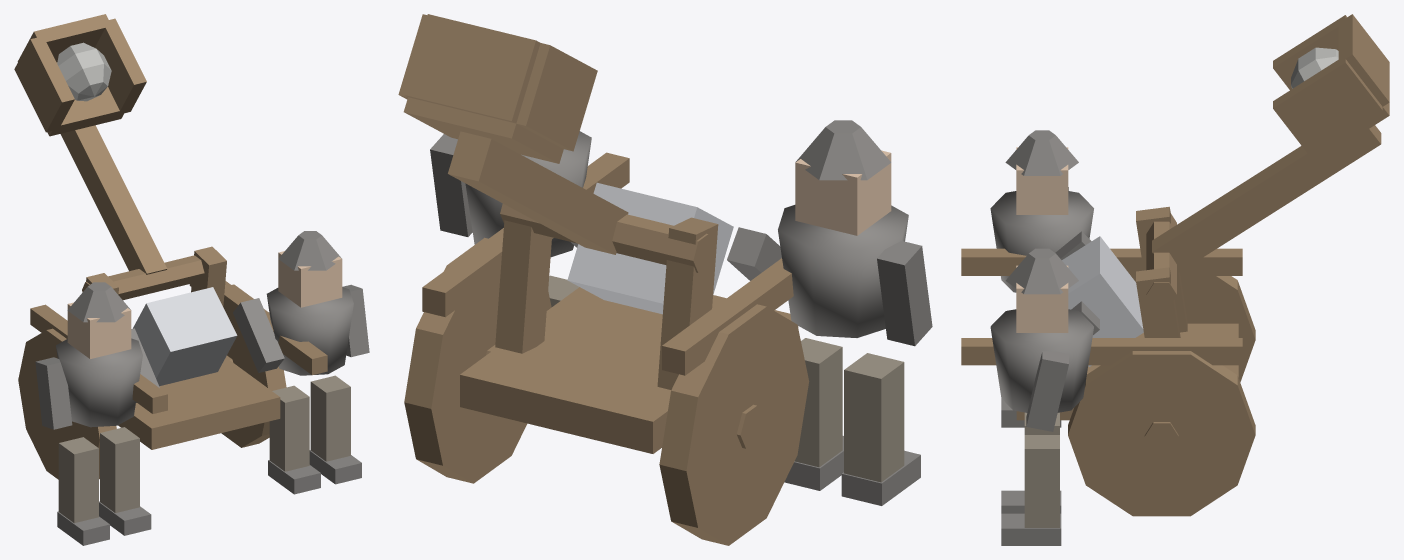
The model's file is troop-catapult.glb.
3 renders of one model, left to right at view 1: azimuth 30°, elevation 25°; view 2: azimuth 150°, elevation 25°; view 3: azimuth 270°, elevation 25°, orthographic. The views are drawn at different scales.
Parts seen in each view (by area): view 1: body, arm_weight, arm, crew0_torso, crew1_torso, wheel_l, arm_basket_l, crew0_leg_l, crew1_leg_r, crew0_leg_r, crew1_leg_l, arm_basket_r (+19 smaller); view 2: wheel_l, body, wheel_r, crew0_torso, arm_basket_end, arm, arm_weight, crew0_leg_l, frame_r, arm_basket_l, crew0_head, rail_r (+13 smaller); view 3: wheel_r, arm, crew1_torso, arm_basket_r, arm_weight, crew0_torso, rail_r, wheel_l, rail_l, crew1_leg_r, arm_basket_end, crew1_arm_out (+14 smaller).
Boxes of the visible parts, x1,y1,x2,y2 form: body: (118, 357, 280, 449); arm_weight: (133, 287, 237, 386); arm: (60, 125, 167, 274); crew0_torso: (56, 338, 142, 427); crew1_torso: (266, 287, 353, 375); wheel_l: (18, 328, 116, 479); arm_basket_l: (14, 36, 74, 132); crew0_leg_l: (58, 437, 98, 523); crew1_leg_r: (310, 375, 350, 461); crew0_leg_r: (100, 427, 139, 512); crew1_leg_l: (269, 385, 309, 471); arm_basket_r: (95, 18, 146, 113); wheel_l: (659, 304, 809, 545); body: (460, 287, 798, 453); wheel_r: (404, 237, 551, 483); crew0_torso: (778, 205, 908, 337); arm_basket_end: (403, 14, 540, 123); arm: (448, 131, 628, 254); arm_weight: (567, 182, 733, 314); crew0_leg_l: (844, 353, 904, 482); frame_r: (495, 220, 551, 353); arm_basket_l: (516, 43, 597, 151); crew0_head: (795, 150, 891, 235); rail_r: (422, 152, 629, 317); wheel_r: (1068, 351, 1255, 516); arm: (1152, 125, 1381, 273); crew1_torso: (990, 309, 1093, 412); arm_basket_r: (1273, 56, 1382, 156); arm_weight: (1062, 236, 1143, 366); crew0_torso: (990, 191, 1093, 292); rail_r: (961, 338, 1242, 365); wheel_l: (1131, 276, 1255, 382); rail_l: (961, 248, 1242, 275); crew1_leg_r: (1024, 435, 1059, 527); arm_basket_end: (1338, 14, 1389, 106); crew1_arm_out: (1026, 351, 1068, 431).
Size of the model in its own units: 0.2456 by 0.2804 by 0.2511.
